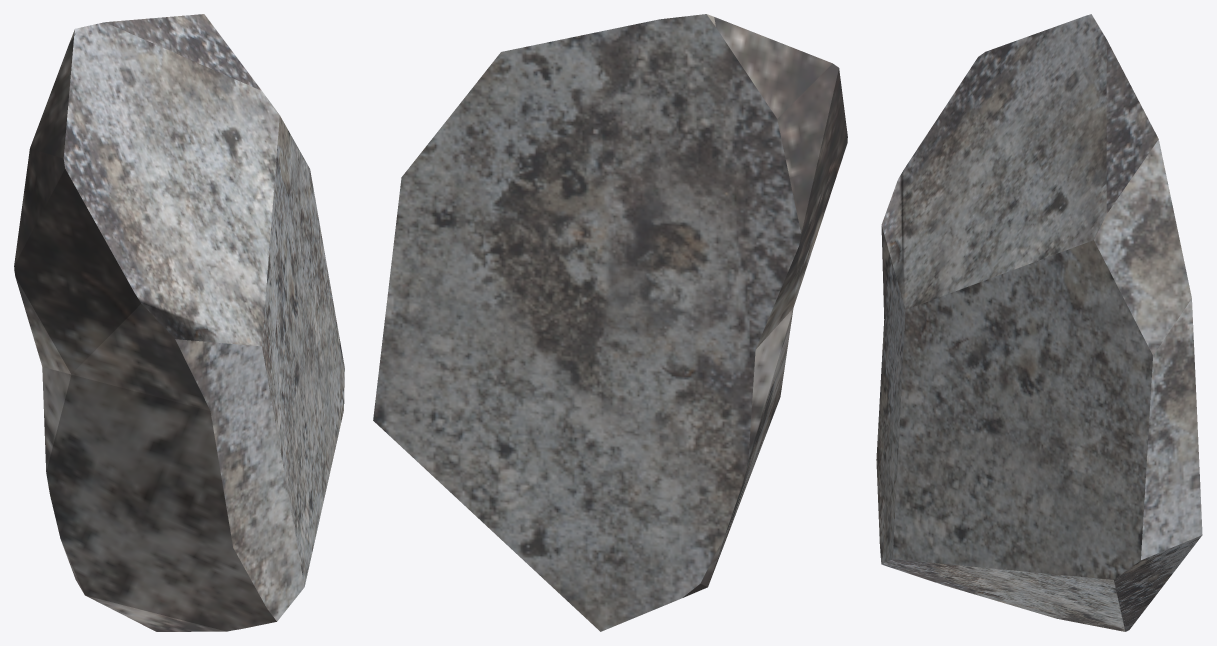
Rendered from Asteroid_Medium_001_02_002_03_013.fbx.
The picture shows the model from 3 angles, left to right: view 1: azimuth 30°, elevation 25°; view 2: azimuth 150°, elevation 25°; view 3: azimuth 270°, elevation 25°; orthographic projection. The views are drawn at different scales.
Visible parts, largest first — view 1: Asteroid_Medium_001_02_002_03_013; view 2: Asteroid_Medium_001_02_002_03_013; view 3: Asteroid_Medium_001_02_002_03_013.
Part boxes in pixels (left/top/right/bottom): Asteroid_Medium_001_02_002_03_013: left=14, top=14, right=344, bottom=631; Asteroid_Medium_001_02_002_03_013: left=373, top=14, right=847, bottom=631; Asteroid_Medium_001_02_002_03_013: left=876, top=14, right=1202, bottom=631.
Bounding box in the file's own units: 9.5 × 14.84 × 7.58.
